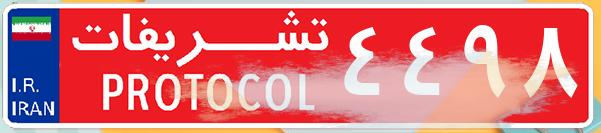4: (340, 20, 400, 115), (400, 20, 460, 115)
8: (520, 20, 580, 115)
9: (460, 20, 520, 115)
تشریفات: (60, 8, 340, 125)
